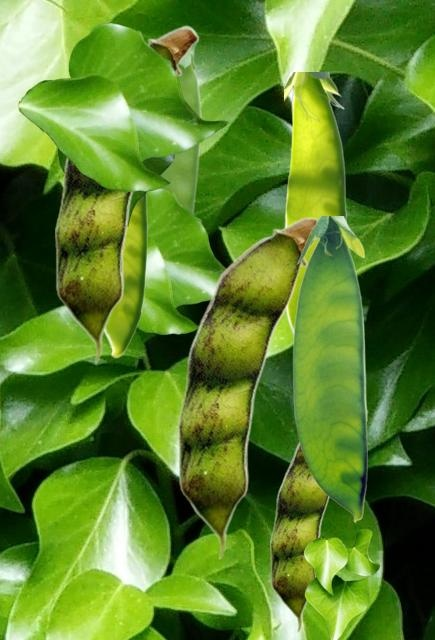pea: (55, 26, 198, 363), (178, 216, 316, 559), (292, 216, 366, 521), (270, 409, 367, 632), (284, 72, 346, 335), (161, 24, 201, 214), (105, 192, 147, 357)
